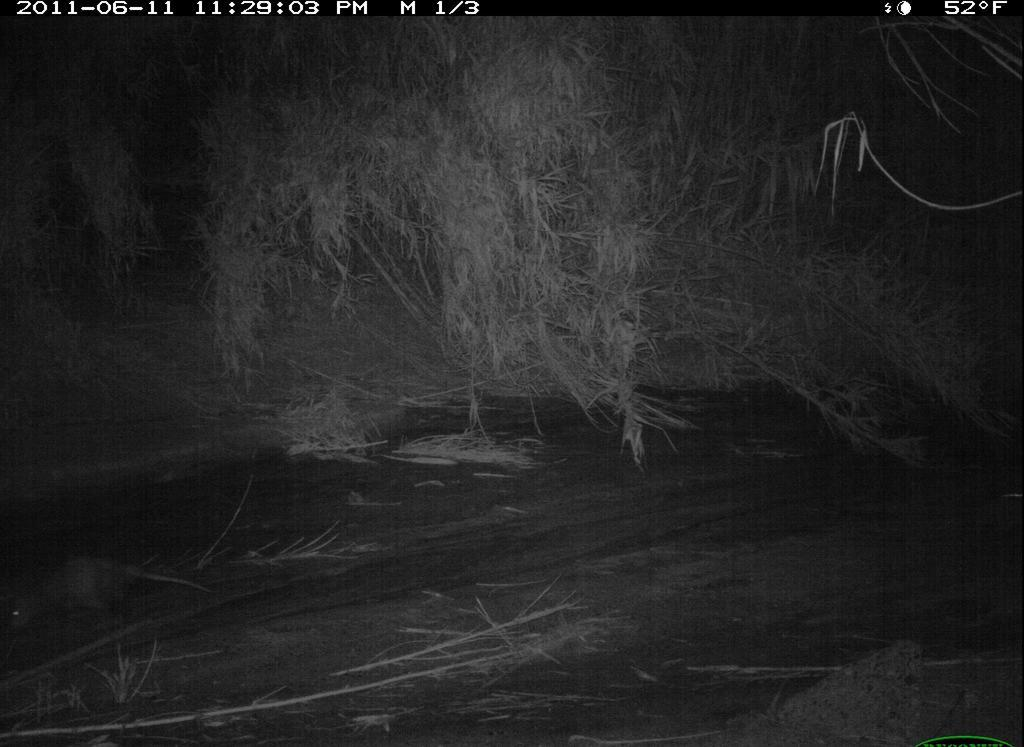opossum: (1, 543, 228, 651)
